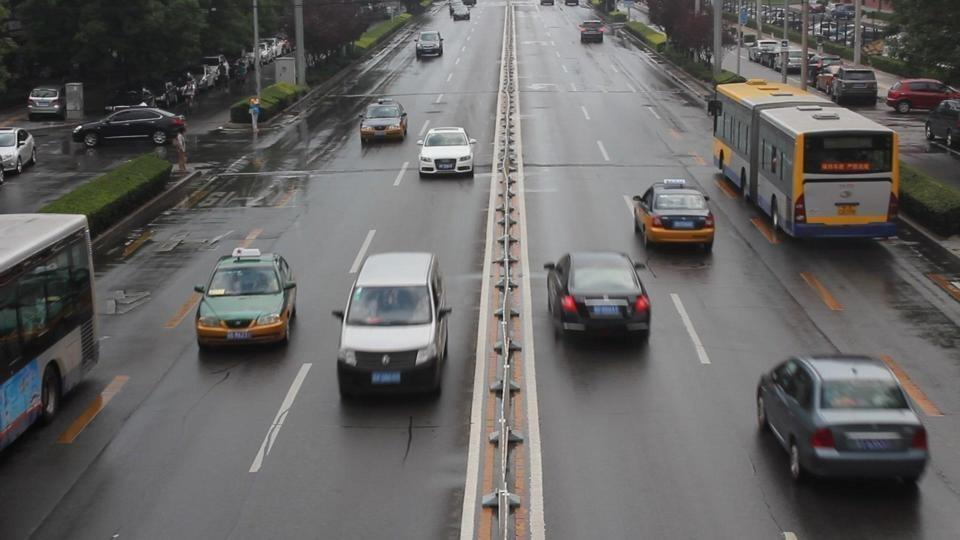car: (755, 353, 930, 487), (335, 252, 452, 403), (193, 251, 301, 353), (545, 250, 654, 343), (630, 177, 716, 250), (824, 73, 957, 109), (72, 107, 188, 148), (417, 126, 476, 176), (886, 79, 960, 114), (828, 65, 878, 108), (359, 99, 409, 142), (923, 99, 960, 152), (0, 128, 37, 177), (26, 86, 65, 120), (416, 28, 444, 60), (577, 18, 606, 45), (449, 0, 471, 20)
